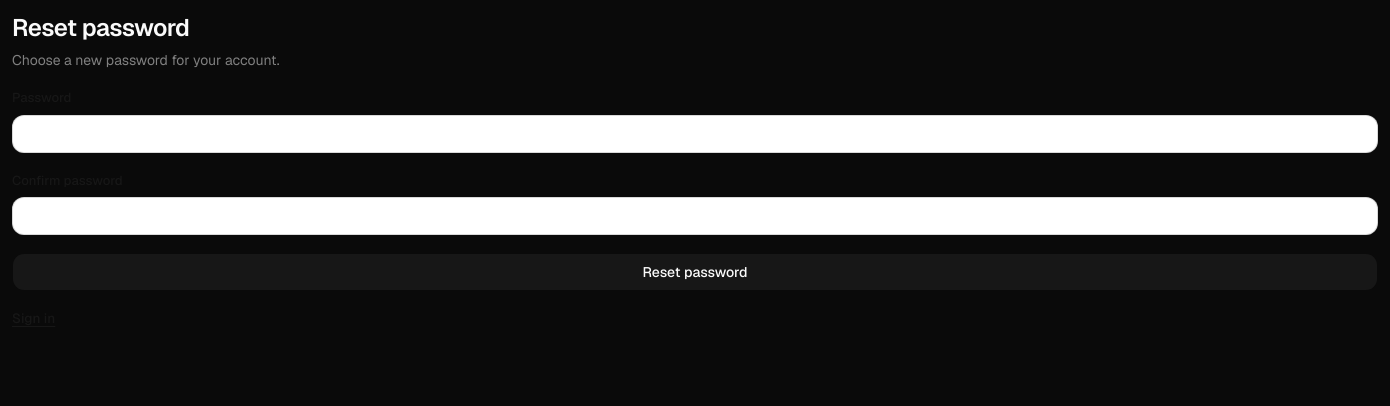
Test: ResetPasswordForm › shows a generic message instead of the server message when the server fails
Type "a-long-enough-password" into the password field labelled "Password" at (695, 134), box 12,114 -> 1378,152
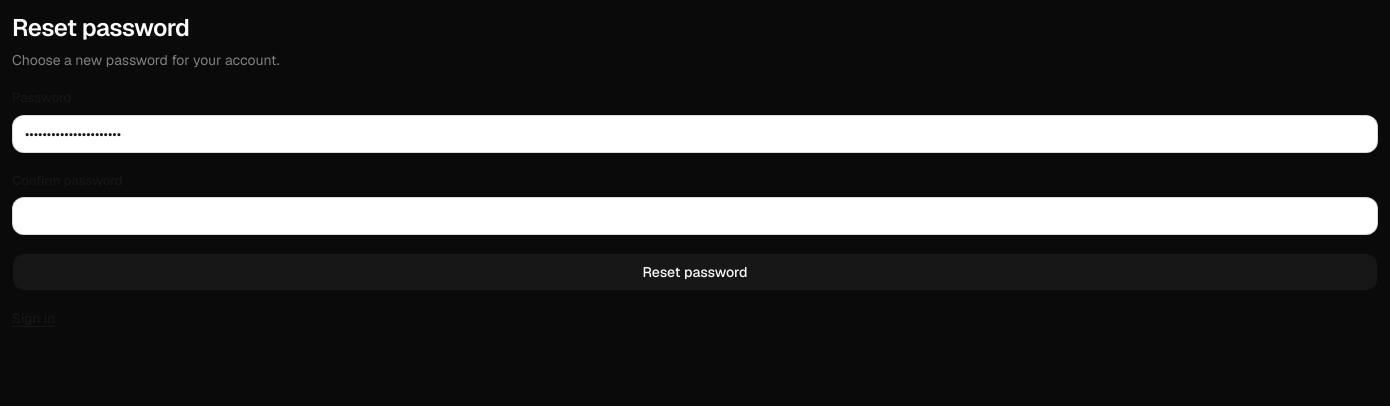
Type "a-long-enough-password" into the password field labelled "Confirm password" at (695, 216), box 12,197 -> 1378,235
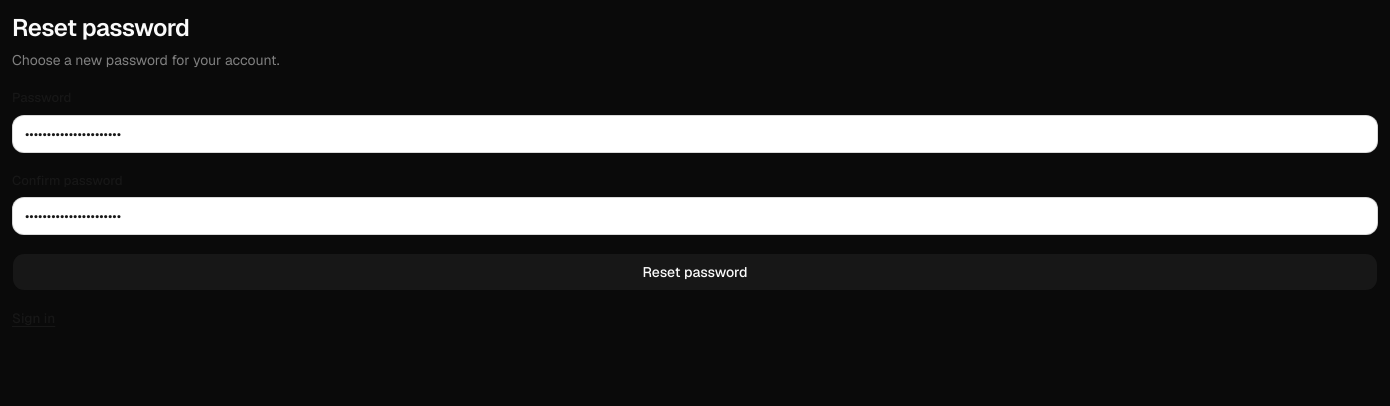
Click the button "Reset password" at (695, 272), box 12,253 -> 1378,291
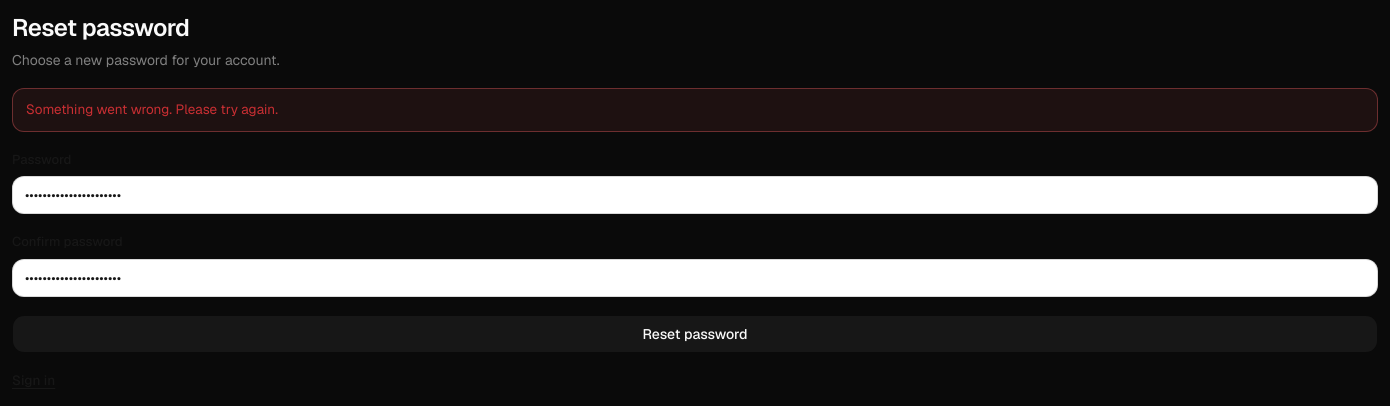
Result: the message reads "Something went wrong. Please try again." at 26,100 -> 278,118
